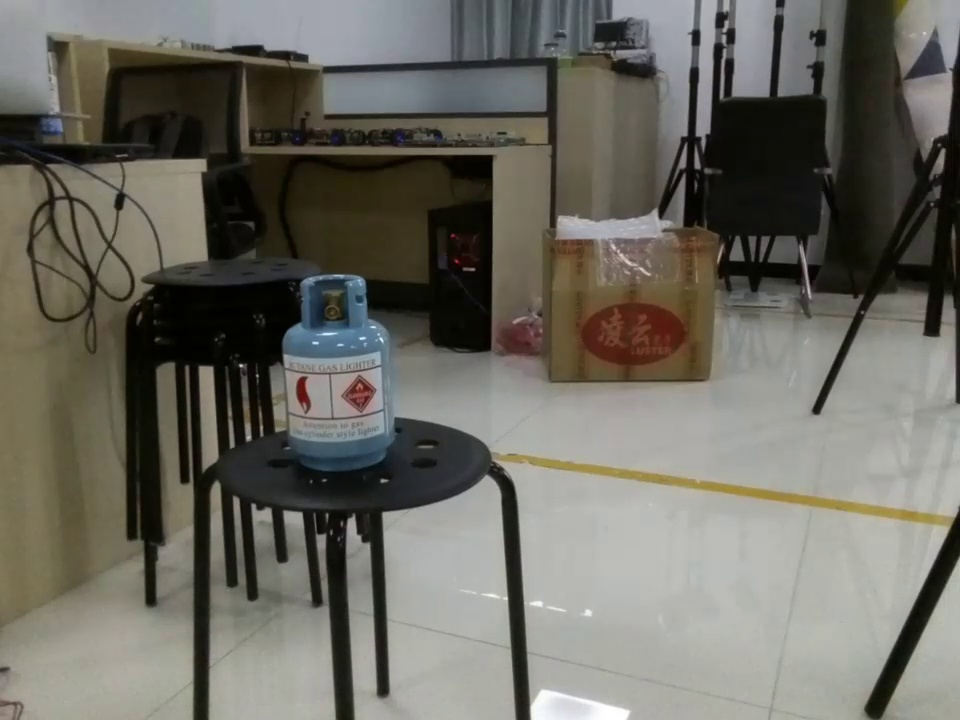gas tank: (265, 272, 408, 480)
